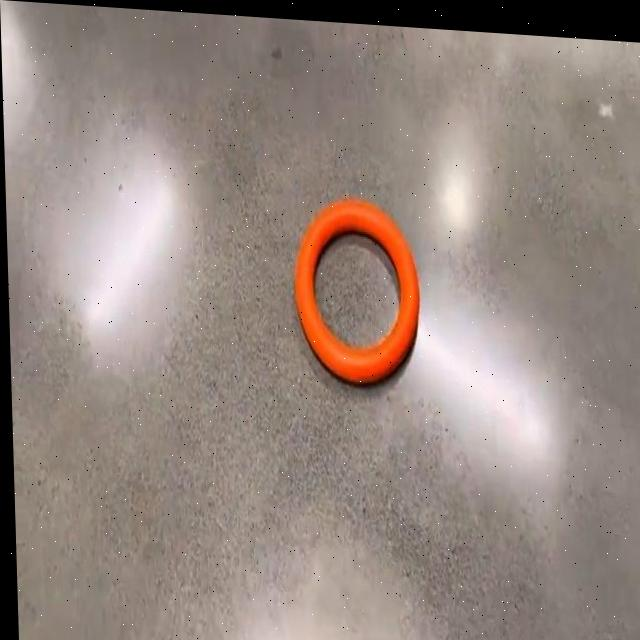note: (291, 191, 419, 382)
